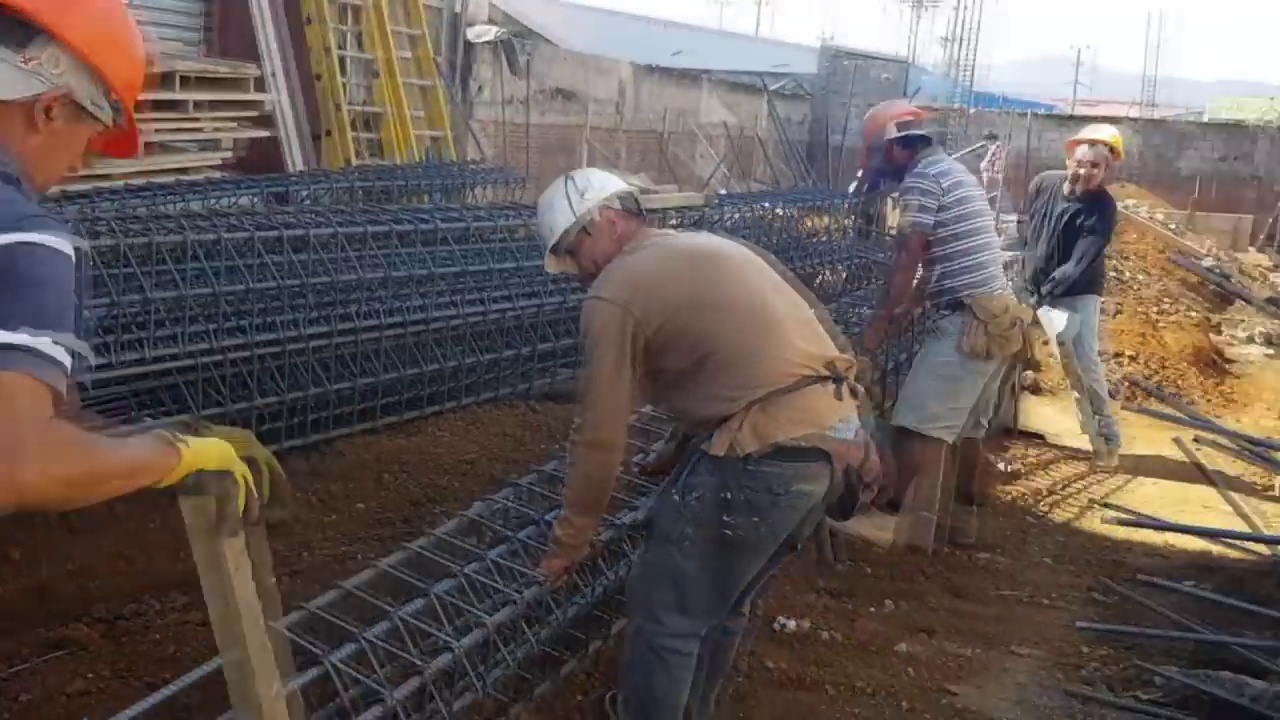helmet: (8, 0, 150, 155), (526, 170, 643, 276), (860, 96, 932, 150), (1065, 124, 1124, 160)
helmet-off: (978, 126, 999, 149)
helmet-on: (0, 3, 152, 204), (525, 174, 668, 290), (849, 96, 938, 185), (1061, 120, 1126, 202)
person: (518, 183, 877, 719), (0, 2, 277, 527), (848, 97, 1025, 547), (1021, 124, 1125, 463), (979, 120, 1009, 227)
